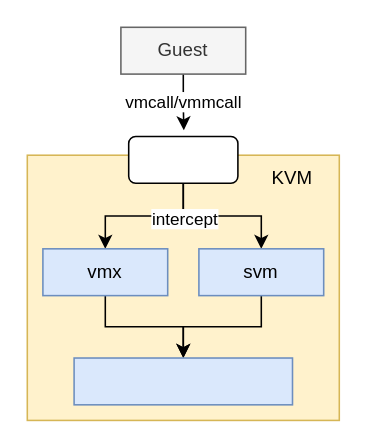
The diagram is 367 pixels wide and 448 high, and some of its shapes have lost their labels. Each missing label, with the box of its shape:
kvm_emulate_hypercall: (73, 356, 292, 405)
vm-exit: (127, 135, 238, 183)
